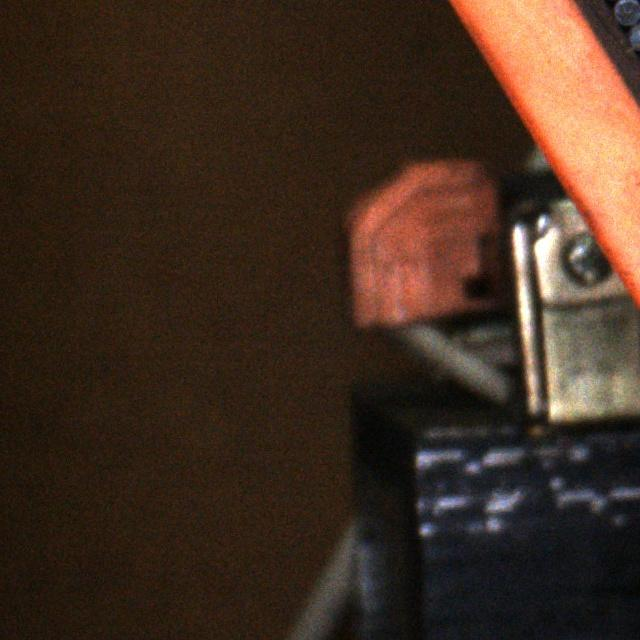tool: (614, 0, 640, 24), (628, 24, 640, 51)
